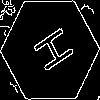H: (25, 25, 76, 79)
